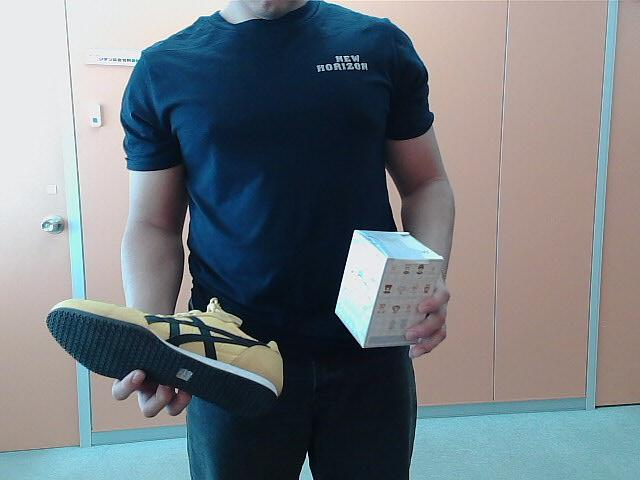Blind_box: (328, 222, 446, 356)
Shoes: (44, 296, 296, 422)
